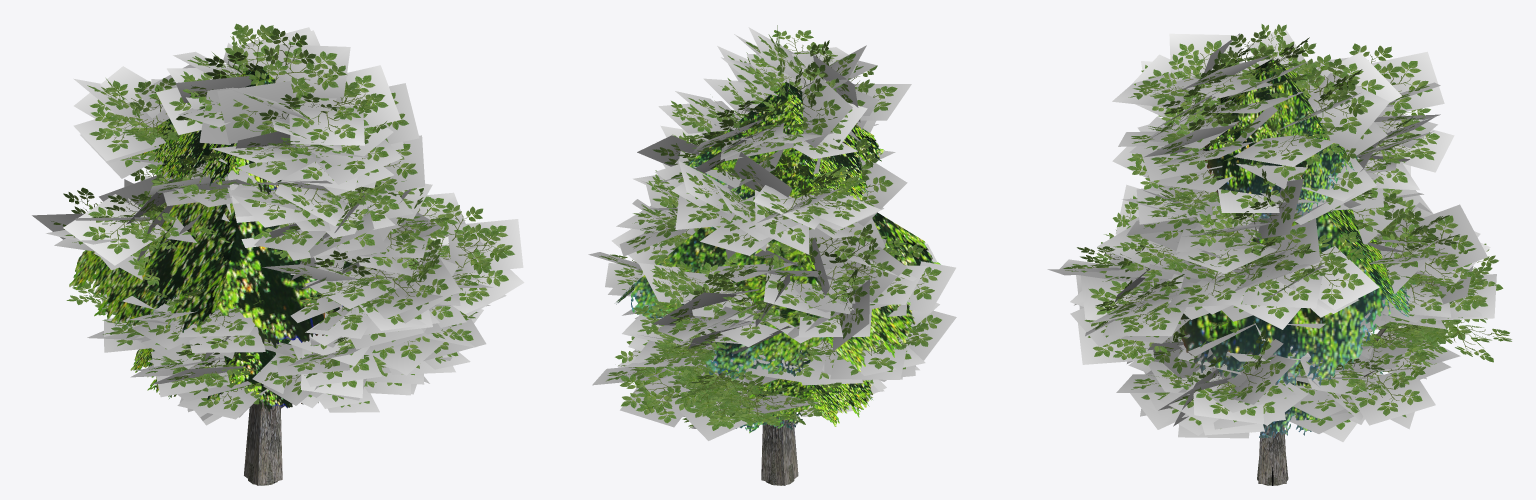
Rendered from Tree01.fbx.
3 renders of one model, left to right at view 1: azimuth 30°, elevation 25°; view 2: azimuth 150°, elevation 25°; view 3: azimuth 270°, elevation 25°, orthographic. The views are drawn at different scales.
Parts seen in each view (by area): view 1: Tree_01_LOD2, Tree_01_LOD1, Tree_01_LOD4; view 2: Tree_01_LOD2, Tree_01_LOD1, Tree_01_LOD4; view 3: Tree_01_LOD2, Tree_01_LOD1, Tree_01_LOD4.
Part boxes in pixels (x1=…): Tree_01_LOD2: x1=32, y1=27, x2=524, y2=483; Tree_01_LOD1: x1=51, y1=23, x2=514, y2=485; Tree_01_LOD4: x1=69, y1=65, x2=376, y2=485; Tree_01_LOD2: x1=588, y1=27, x2=956, y2=483; Tree_01_LOD1: x1=599, y1=25, x2=941, y2=485; Tree_01_LOD4: x1=616, y1=82, x2=940, y2=485; Tree_01_LOD2: x1=1047, y1=27, x2=1496, y2=485; Tree_01_LOD1: x1=1063, y1=24, x2=1511, y2=485; Tree_01_LOD4: x1=1180, y1=59, x2=1417, y2=483.
Bounding box in the file's own units: 1480 × 1696 × 1580.
